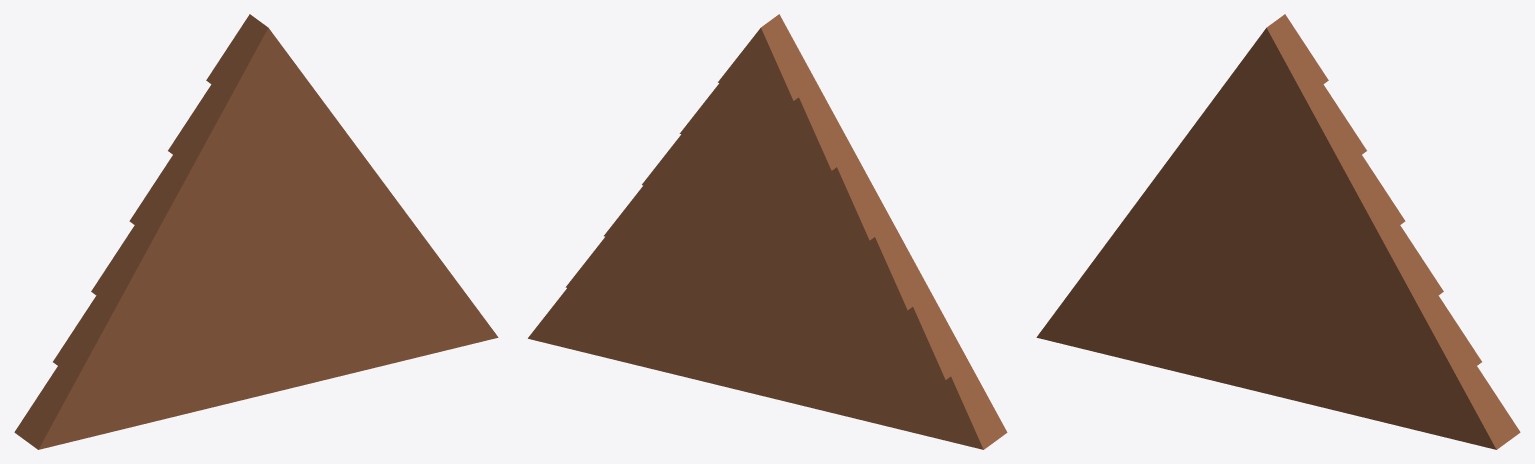
The model's file is cabinSideCenter.fbx.
3 views of the same model, side by side, from view 1: azimuth 30°, elevation 25°; view 2: azimuth 150°, elevation 25°; view 3: azimuth 330°, elevation 25° (orthographic).
Visible parts, largest first — view 1: cabinSideCenter; view 2: cabinSideCenter; view 3: cabinSideCenter.
Part boxes in pixels (bbox=[...]): cabinSideCenter: bbox=[14, 14, 498, 449]; cabinSideCenter: bbox=[528, 14, 1007, 449]; cabinSideCenter: bbox=[1036, 14, 1520, 449].
Bounding box in the file's own units: 10 × 7.6 × 0.902.
